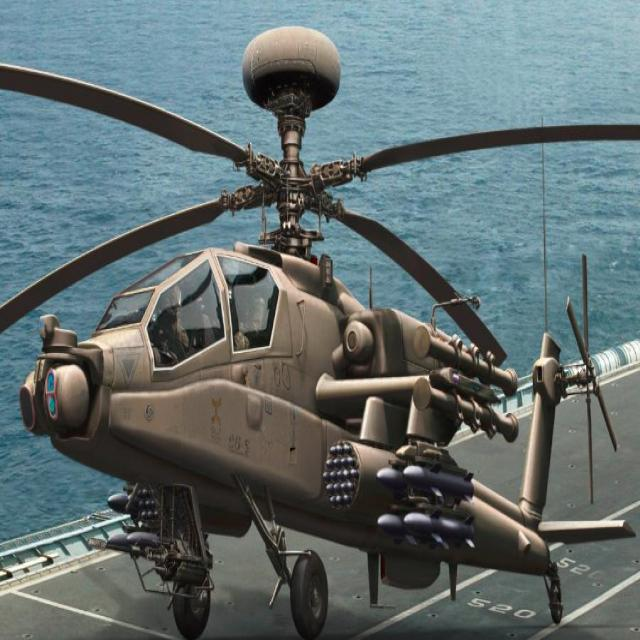MIL_HELO: (2, 17, 640, 630)
